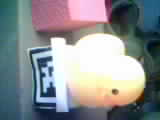duck: (56, 31, 141, 107)
